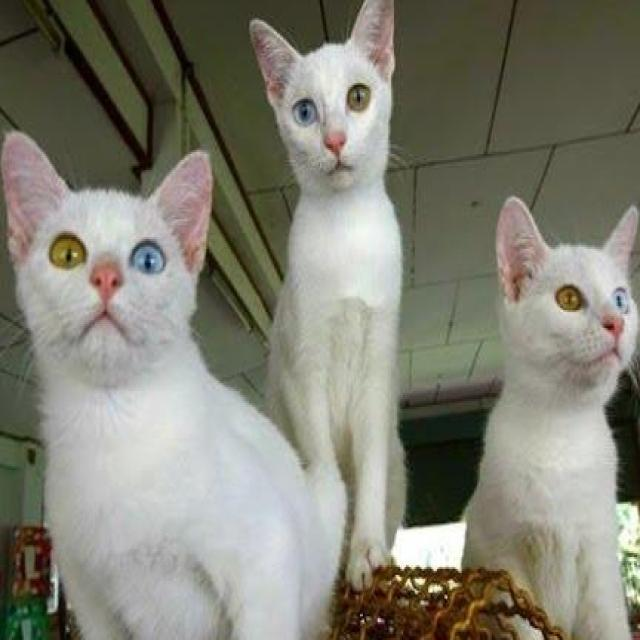Khao Manee: (0, 124, 345, 640), (246, 0, 410, 595), (455, 178, 640, 640)
